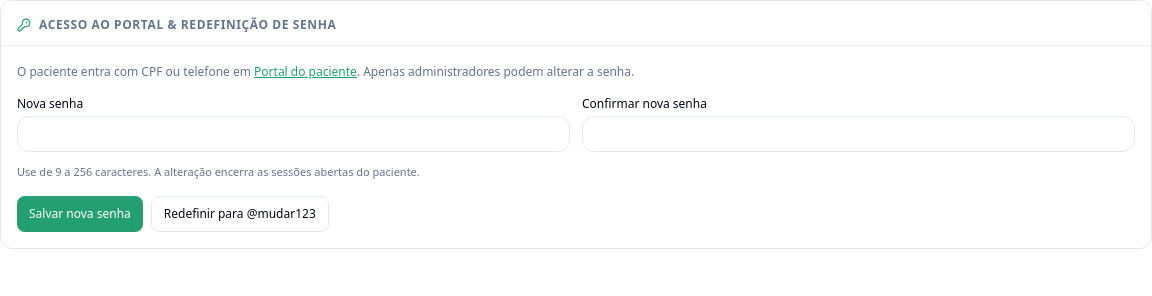
password panel validates confirmation and reports confirmed default reset without reading current password
Type "NewPassword123" into the password field labelled "Nova senha" at (294, 134), box [17,116,570,152]
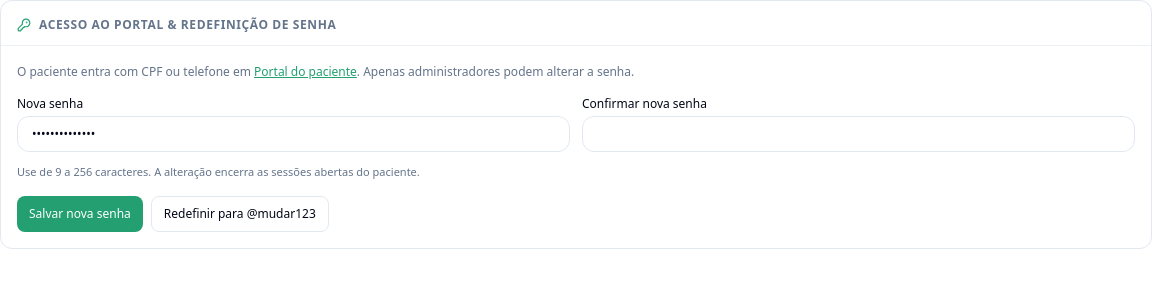
Type "Different123" into the password field labelled "Confirmar nova senha" at (858, 134), box [582,116,1135,152]
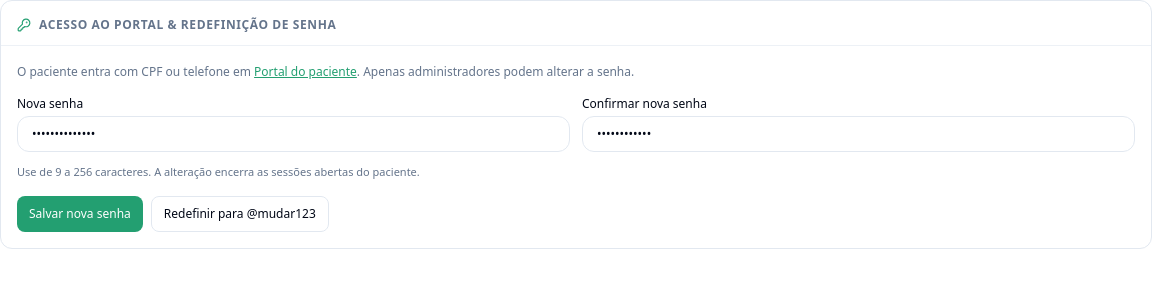
Click the button "Salvar nova senha" at (80, 214), box [17,196,143,232]
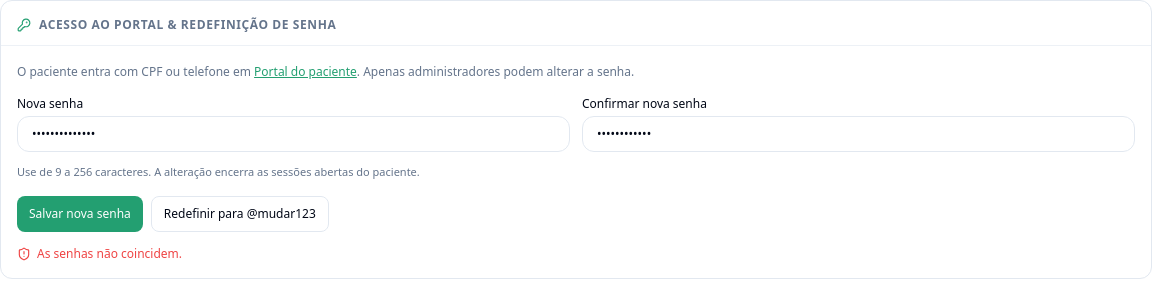
Check: the message reads "As senhas não coincidem.", box [37,244,182,262]
Click the button "Redefinir para @mudar123" at (240, 214), box [151,196,329,232]
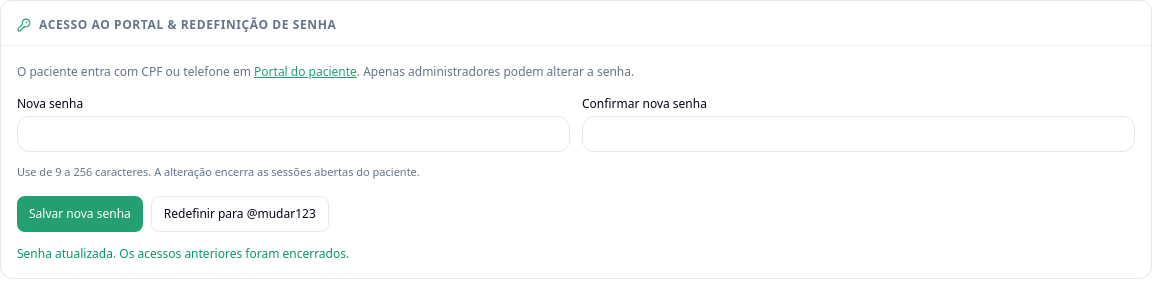
Check: the message "Senha atualizada. Os acessos anteriores foram encerrados." is shown, box [17,244,349,262]
Check: the password field labelled "Nova senha" is empty, box [17,116,570,152]
